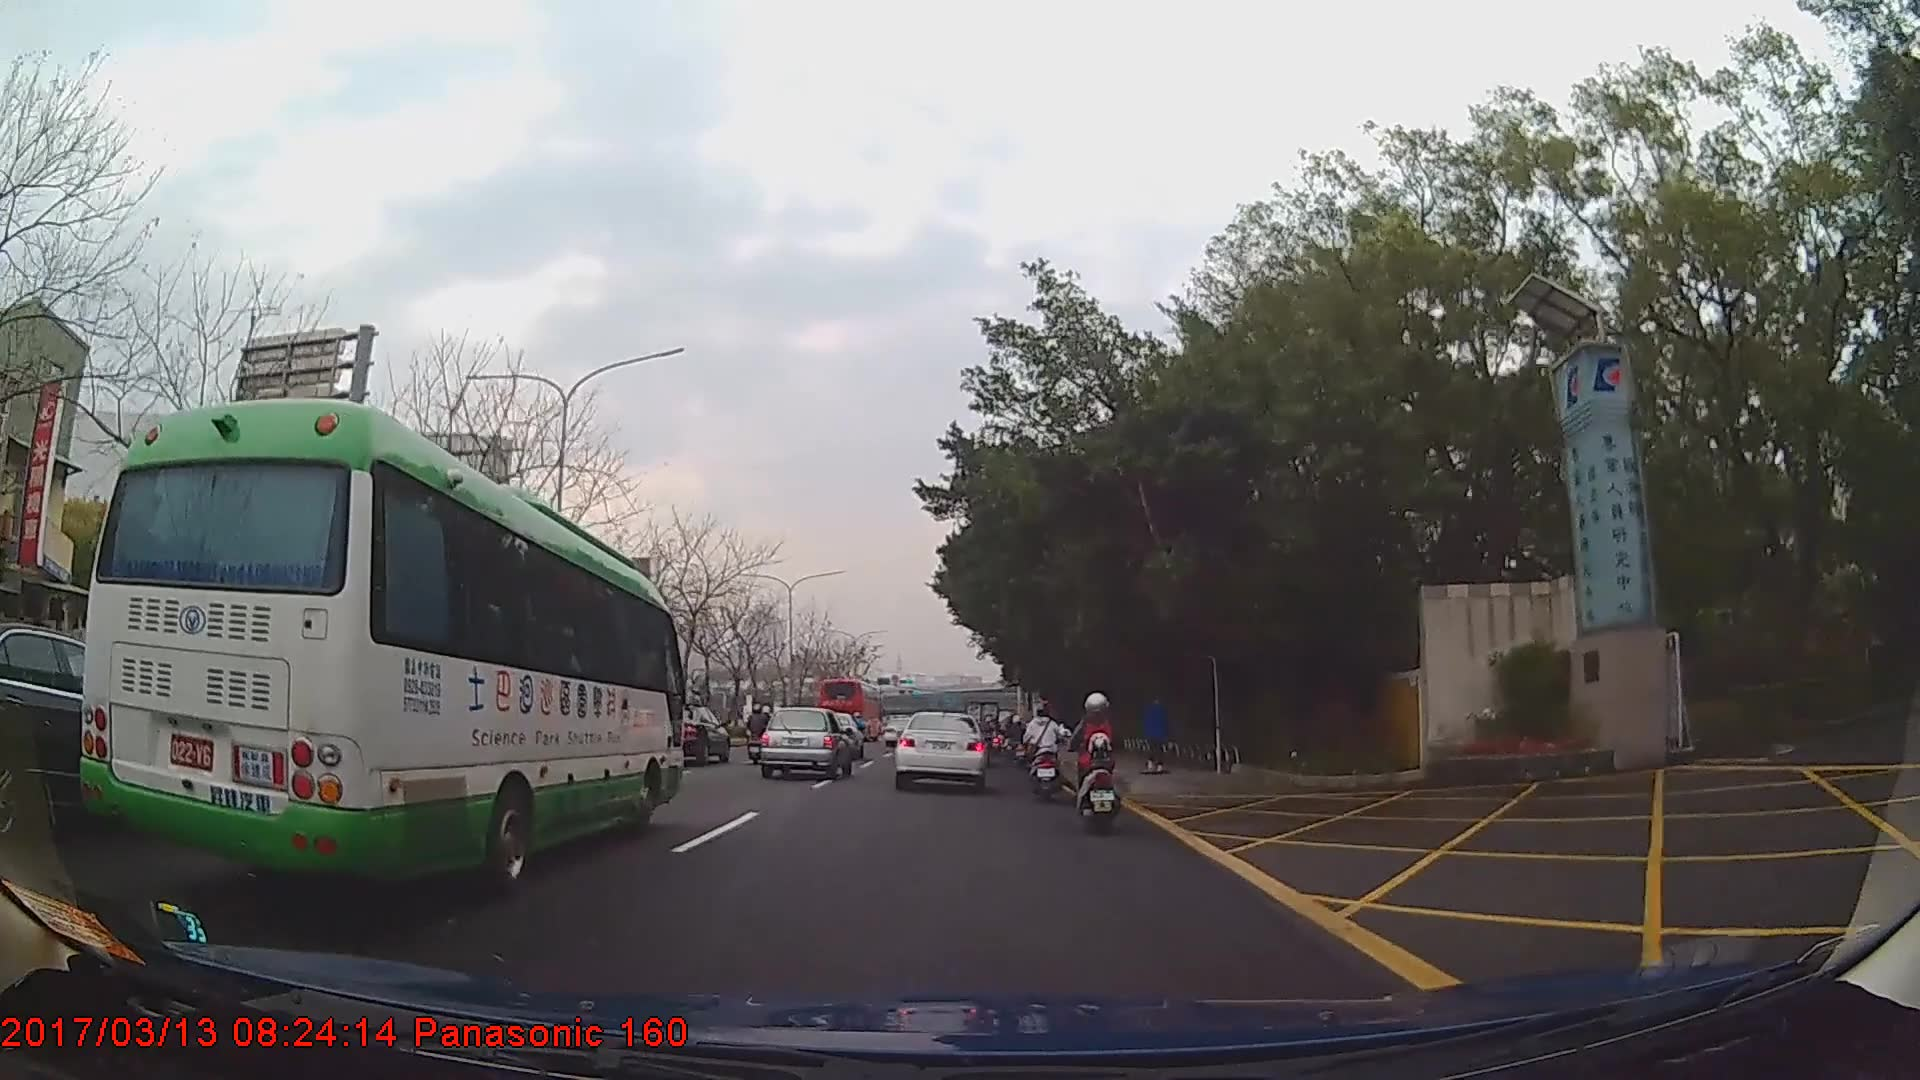pedestrian: (1141, 697, 1171, 775)
rider: (1073, 691, 1123, 829), (1025, 703, 1067, 806), (748, 705, 771, 752)
vehicle: (80, 390, 681, 892), (893, 710, 989, 792), (758, 705, 854, 778), (816, 675, 883, 741), (661, 704, 731, 763)
